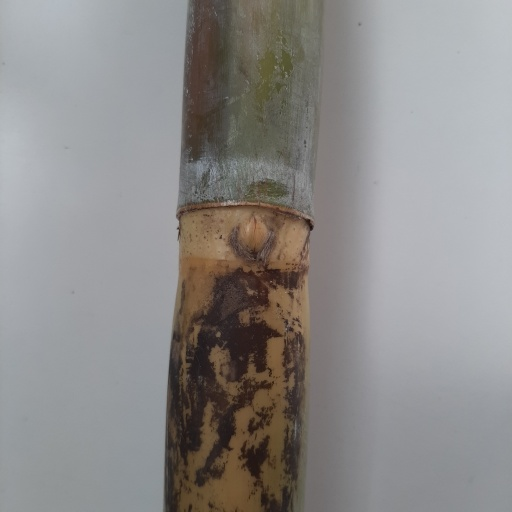Bud: (236, 210, 270, 260)
